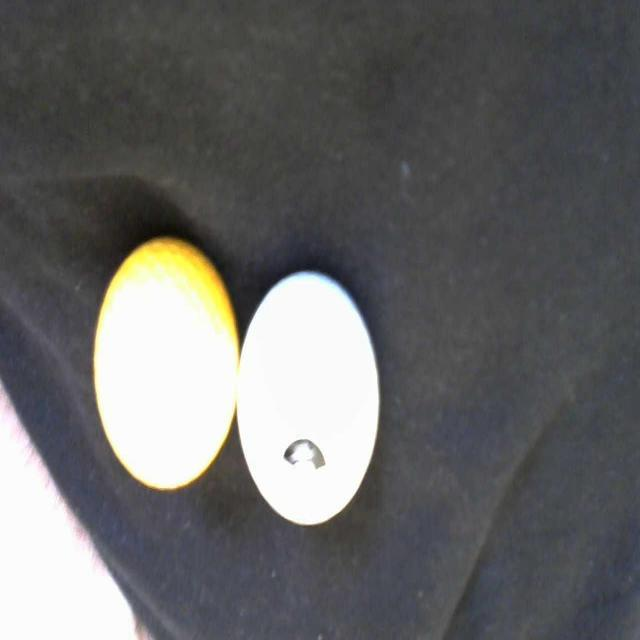golfball: (237, 260, 386, 537), (92, 228, 239, 494)
